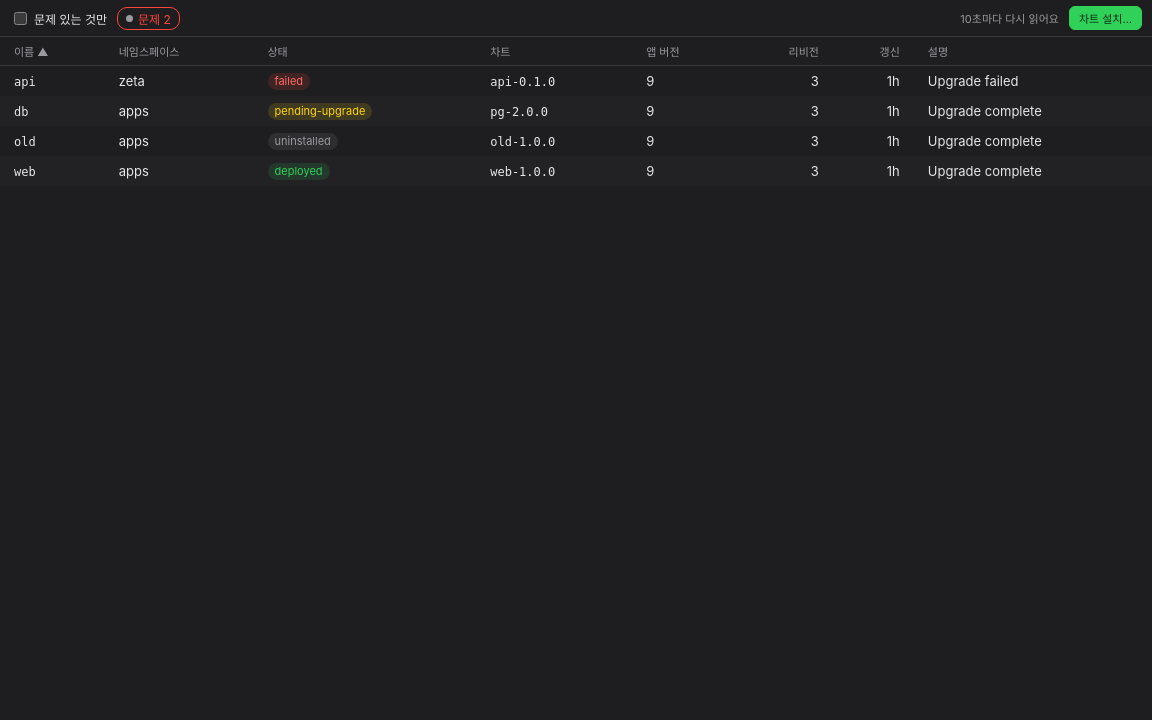
Test case: all namespaces installs into default unless another namespace is typed
The image size is (1152, 720).
Click the button "차트 설치…".
click(1105, 18)  # box [1069,6,1142,30]
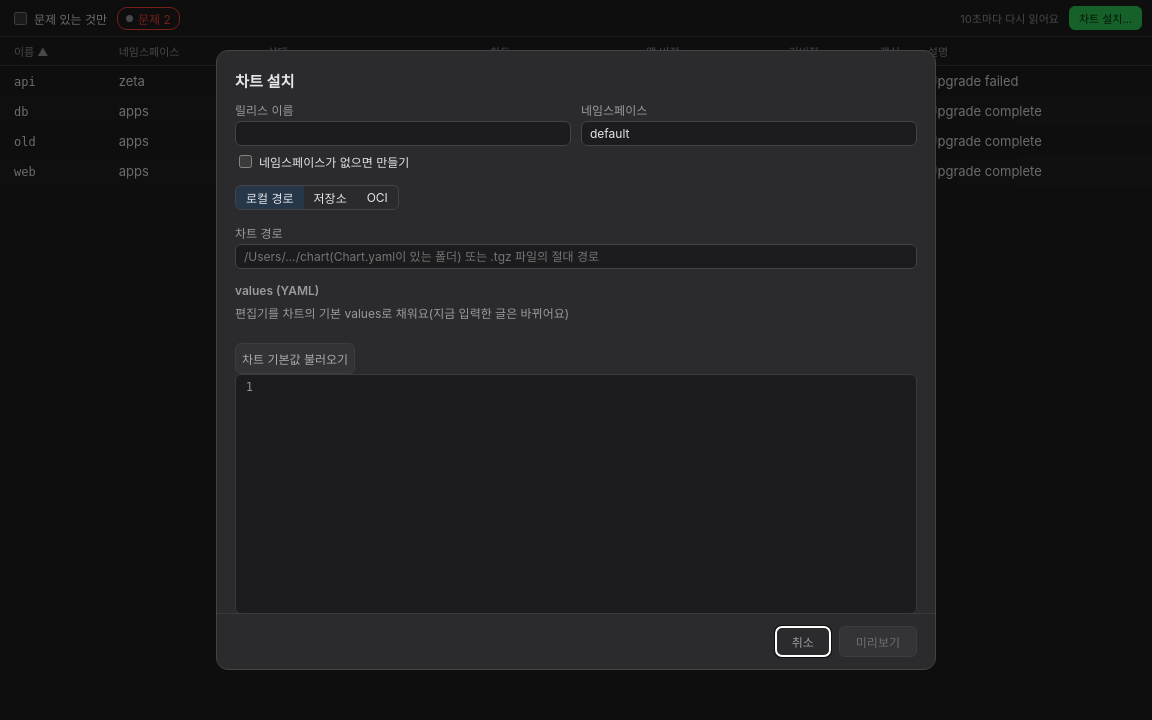
Expected: the field labelled "네임스페이스" holds "default", [581,121,917,146]
